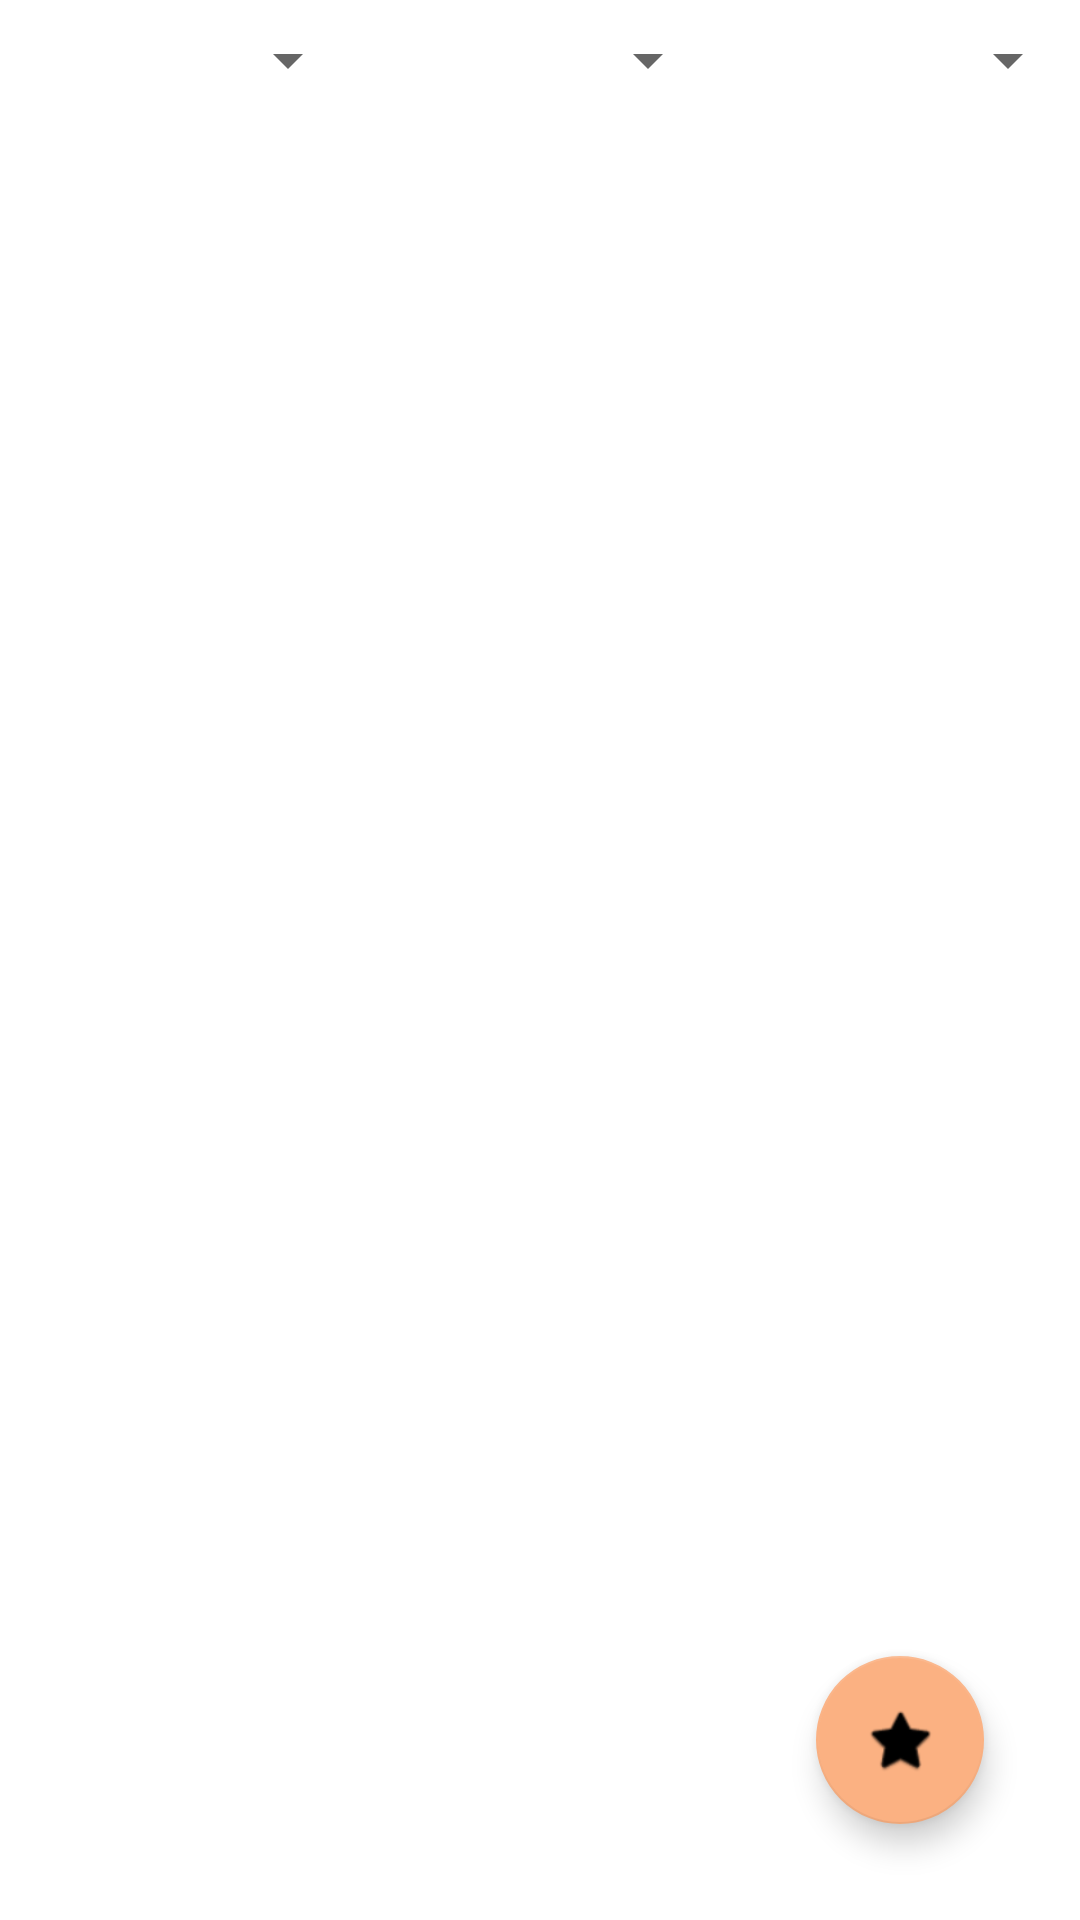

Icon click points for this 1080 x 1920 phone screenshot, format (x,y):
star on: (900,1740)
